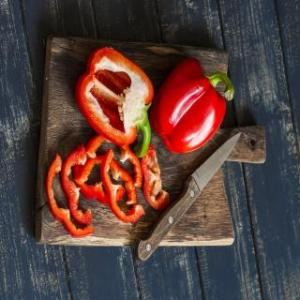bell_pepper: (155, 55, 233, 155)
